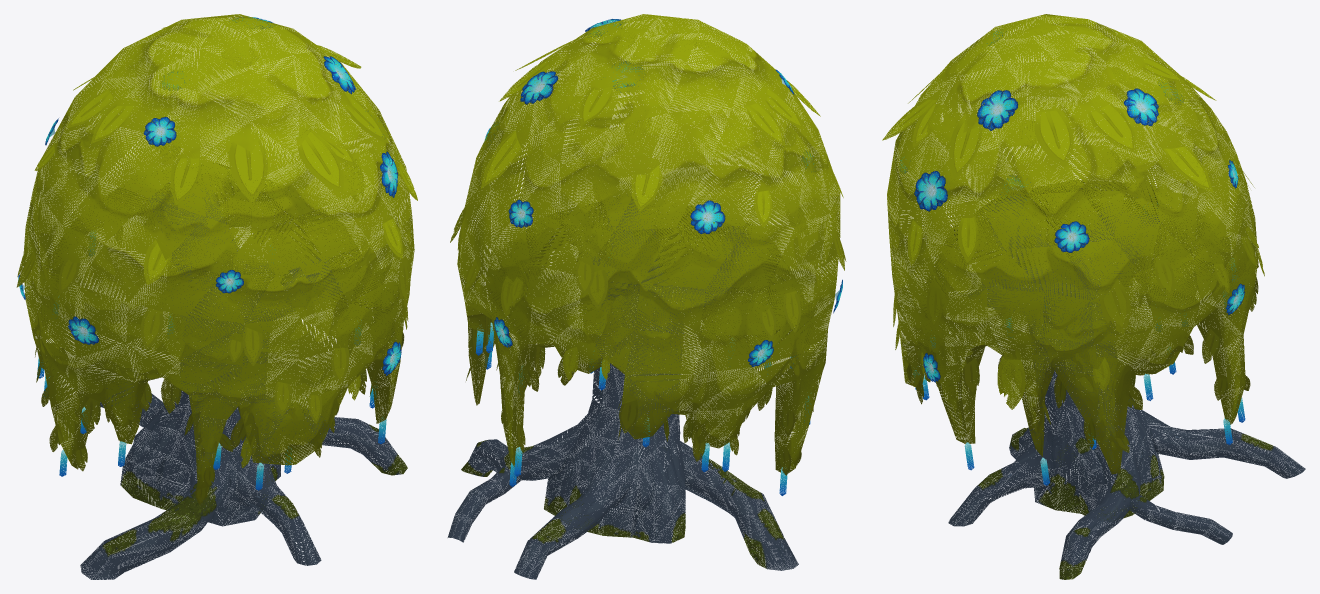
The model's file is WeepingWillow.glb.
3 renders of one model, left to right at view 1: azimuth 30°, elevation 25°; view 2: azimuth 150°, elevation 25°; view 3: azimuth 270°, elevation 25°, orthographic. The views are drawn at different scales.
Visible parts, largest first — view 1: tree_weepingwillo_mat_tree_weepingwillow_dif_0; view 2: tree_weepingwillo_mat_tree_weepingwillow_dif_0; view 3: tree_weepingwillo_mat_tree_weepingwillow_dif_0.
Boxes of the visible parts, x1,y1,x2,y2 form: tree_weepingwillo_mat_tree_weepingwillow_dif_0: [16, 14, 417, 579]; tree_weepingwillo_mat_tree_weepingwillow_dif_0: [447, 14, 846, 579]; tree_weepingwillo_mat_tree_weepingwillow_dif_0: [882, 14, 1305, 579].
Size of the model in its own units: 889 by 1178 by 940.
Materials: 1 (1 with a texture image).
